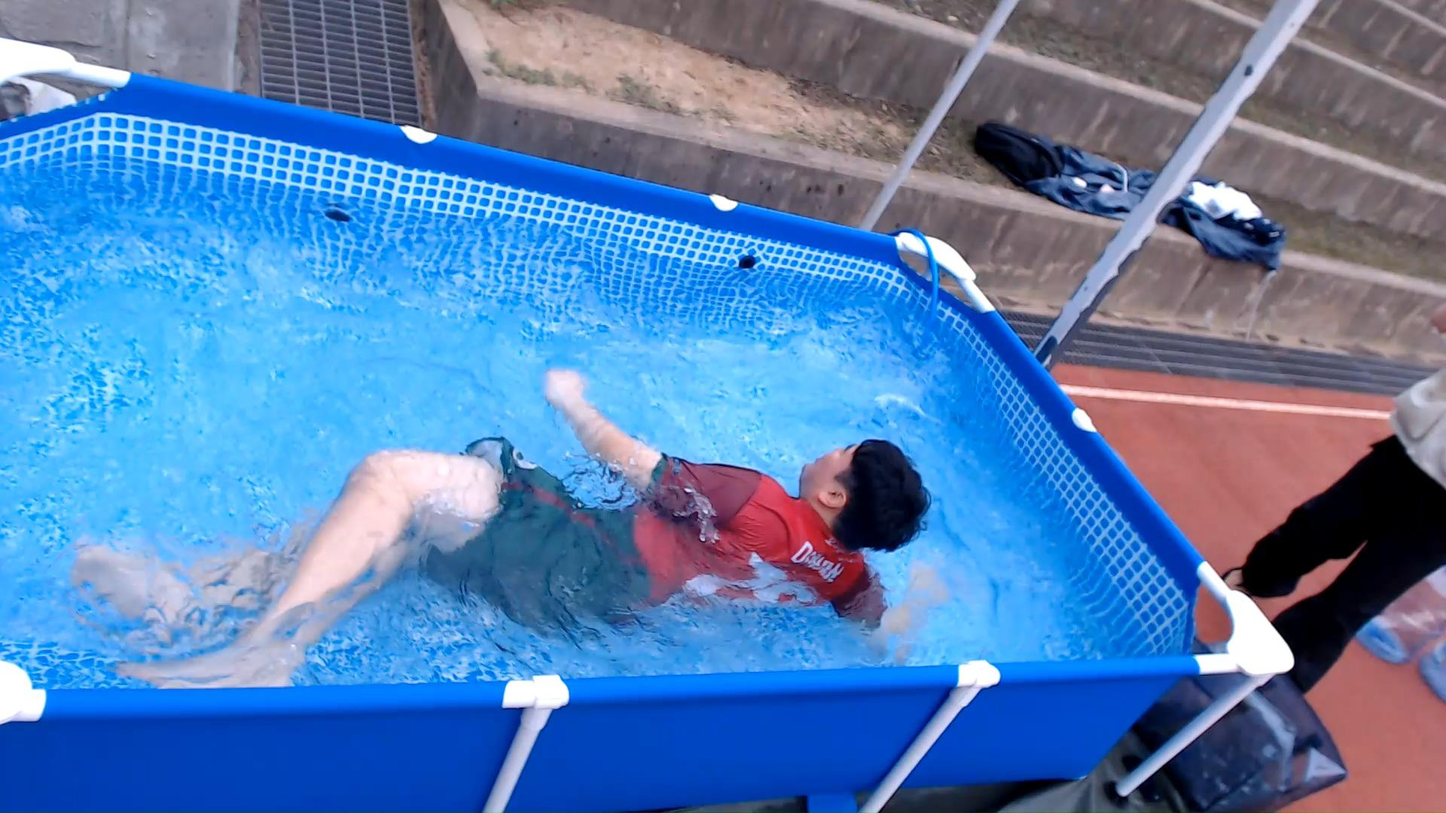Drowning: (141, 383, 967, 643)
